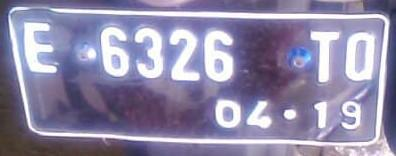clone-license-plate: (6, 4, 387, 145)
